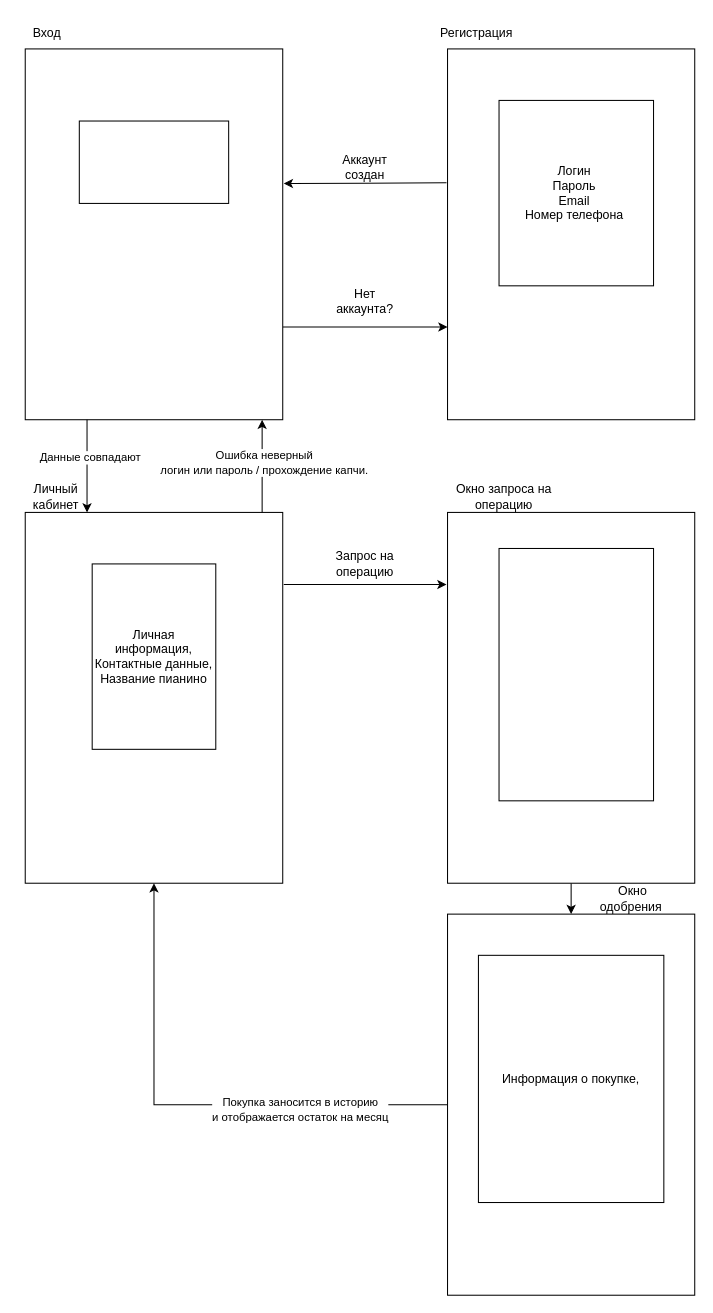
The diagram is 713 pixels wide and 1313 high, and some of its shapes have lost their labels. The shapes that lost their labels are listed below. From the top down, each one's box as (x1, y1, x2, y2) in pixels, then its label:
(78, 120, 229, 203): Логин пароль
(498, 547, 654, 801): Вид расхода, Сумма, Модель, Дата доставки .
